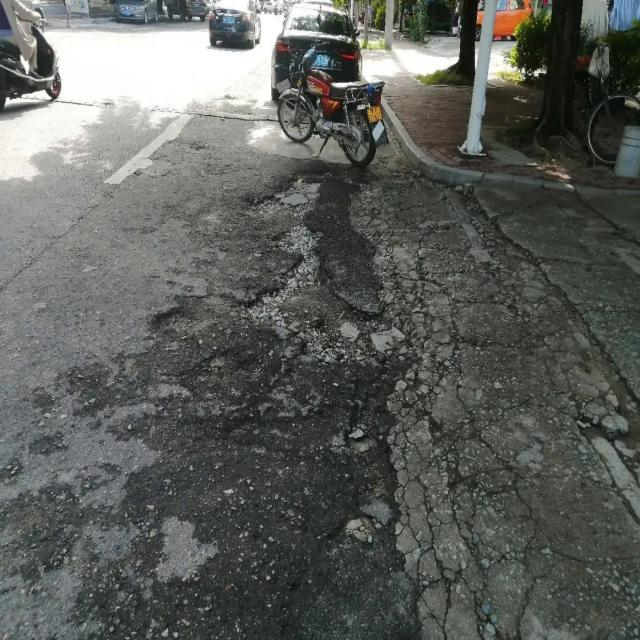Pothole: (153, 172, 410, 371)
